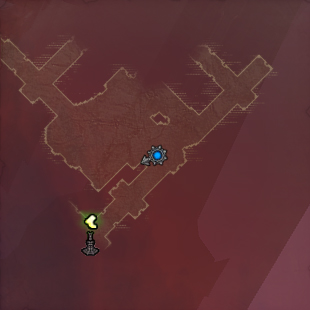SpeedPylon: (82, 211, 102, 257)
